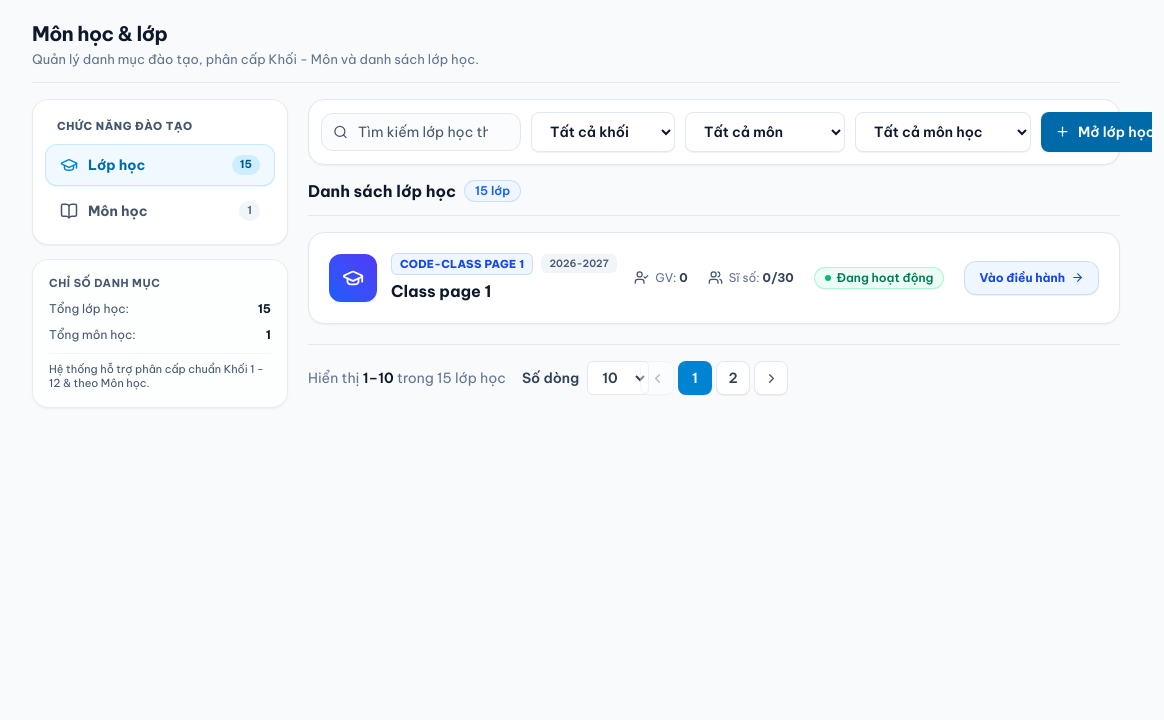
CoursesPage version history lifecycle › gọi /classes/page và /manager/courses/page theo đúng trang khi người dùng chuyển trang
This screenshot has width=1164, height=720.
Expected: the heading "Class page 1" is shown, x1=391 y1=281 x2=491 y2=301
Click the button named "Trang sau" at [771, 378], box x1=754 y1=361 x2=788 y2=395
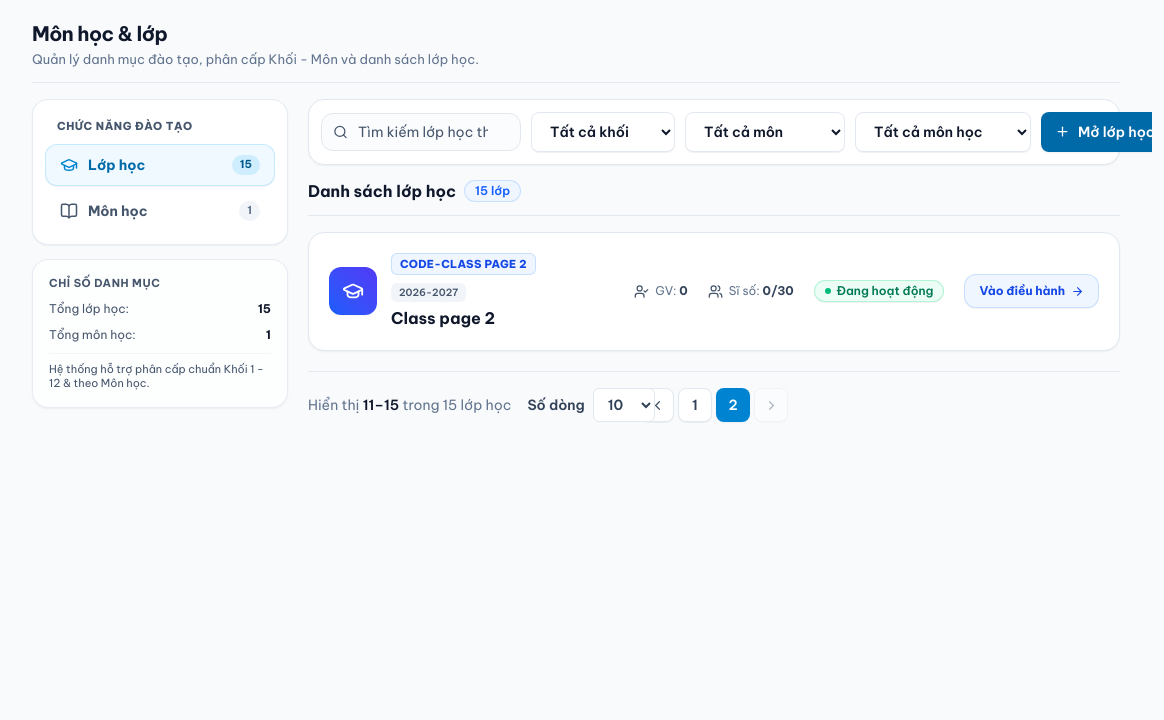
Now the heading "Class page 2" is shown, box x1=391 y1=308 x2=495 y2=328
Click the button "Môn học 1" at [160, 211], box x1=45 y1=190 x2=275 y2=232
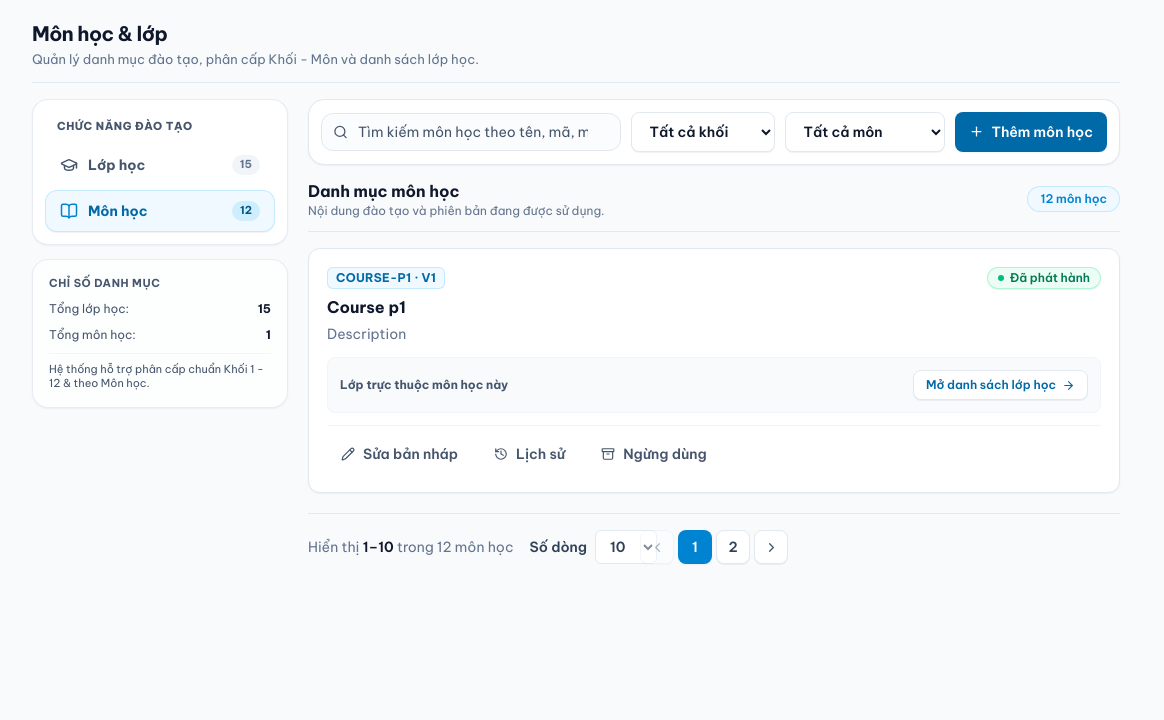
Now the heading "Course p1" is shown, box x1=327 y1=296 x2=406 y2=316
Click the button named "Trang sau" at [771, 547], box x1=754 y1=530 x2=788 y2=564
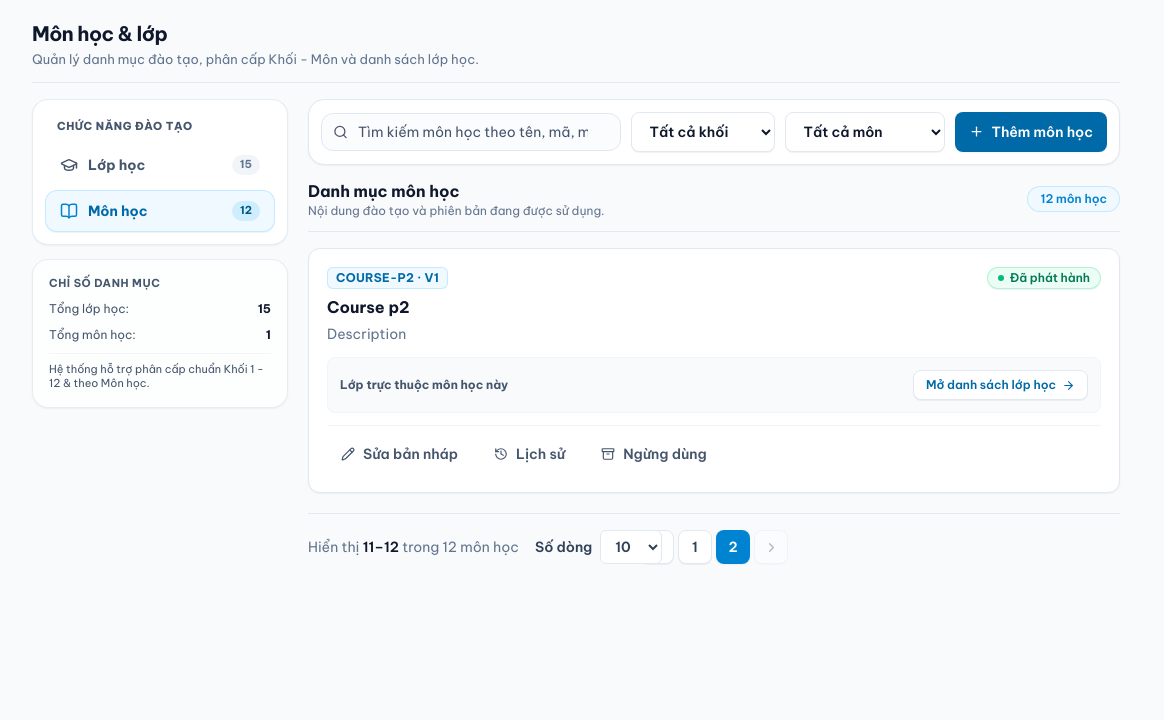
Now the heading "Course p2" is shown, box x1=327 y1=296 x2=410 y2=316
